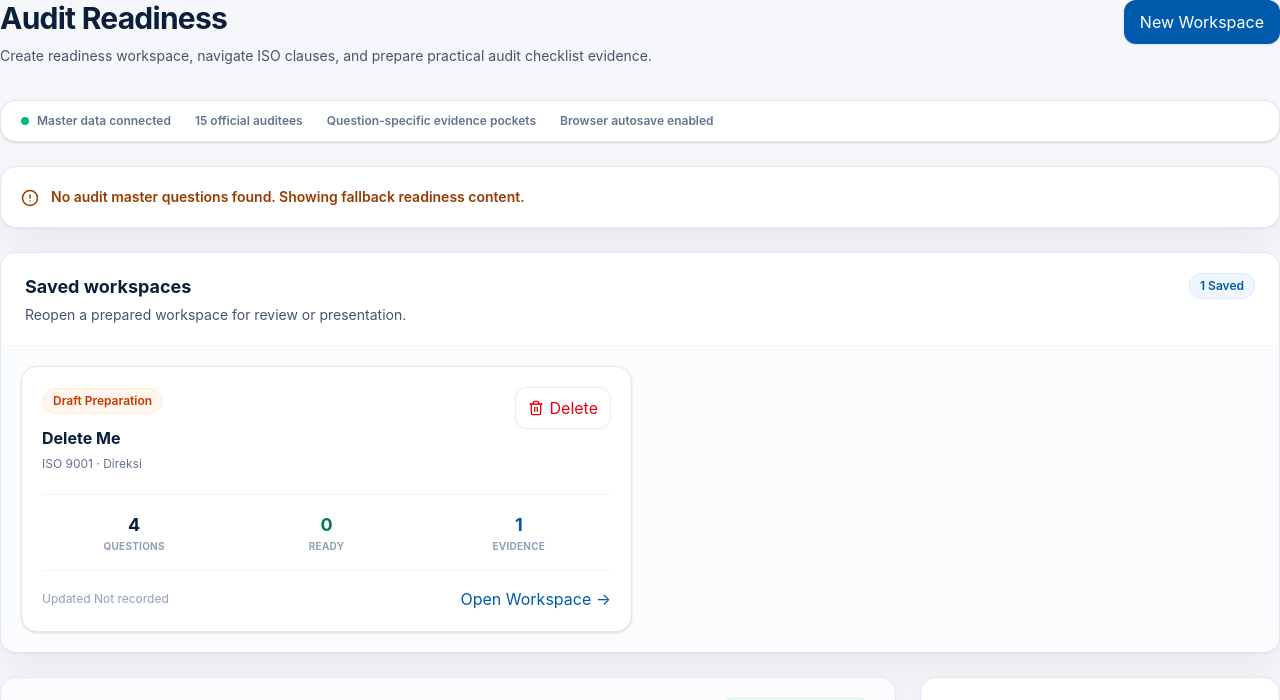
Test: local interactive workflows › confirms workspace deletion and removes its linked evidence
Step 1. Click the button with aria-label "Delete Delete Me" → {"x": 563, "y": 408}, box [514,387,611,429]
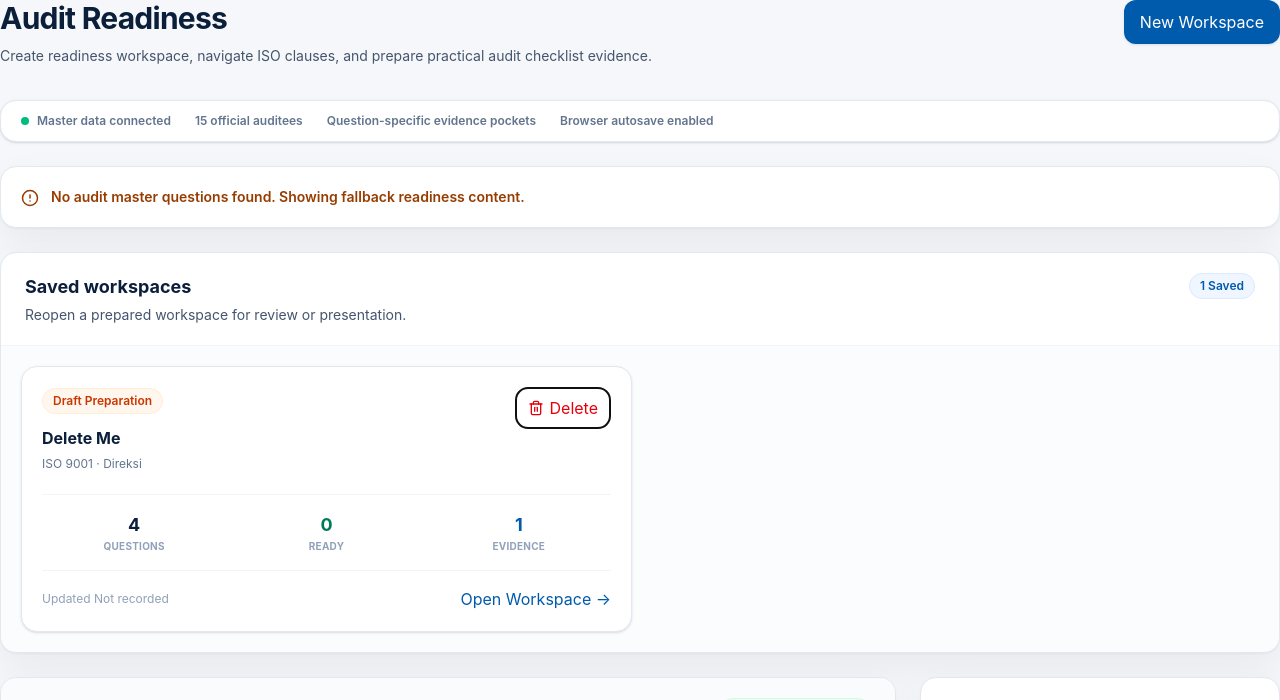
Check: the text "Delete Me" is shown, box [42,428,120,448]
Step 2. Click the button with aria-label "Delete Delete Me" → {"x": 563, "y": 408}, box [514,387,611,429]
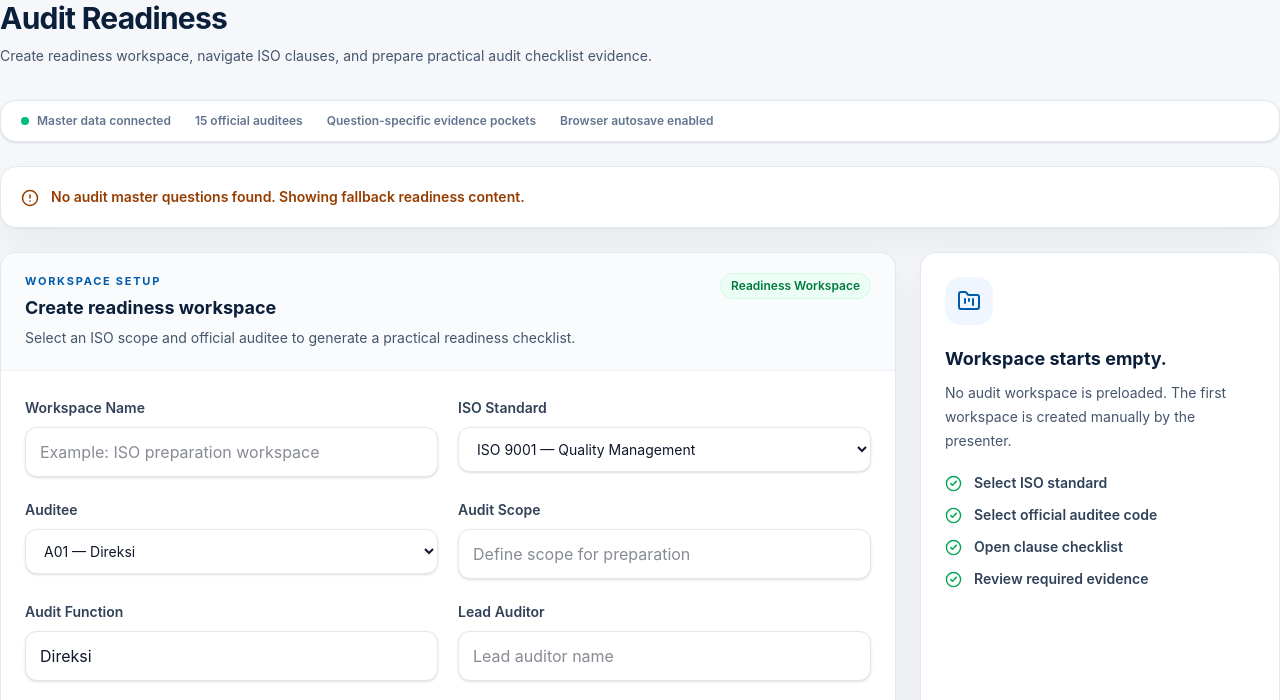
Check: the button "Delete Me" is gone
